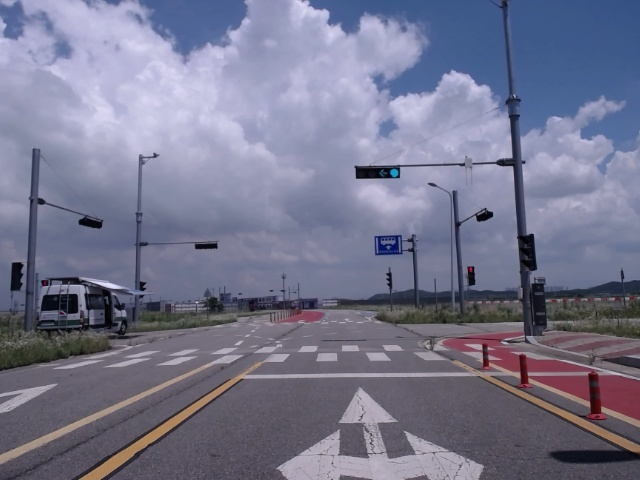all_green_4: (354, 166, 403, 181)
